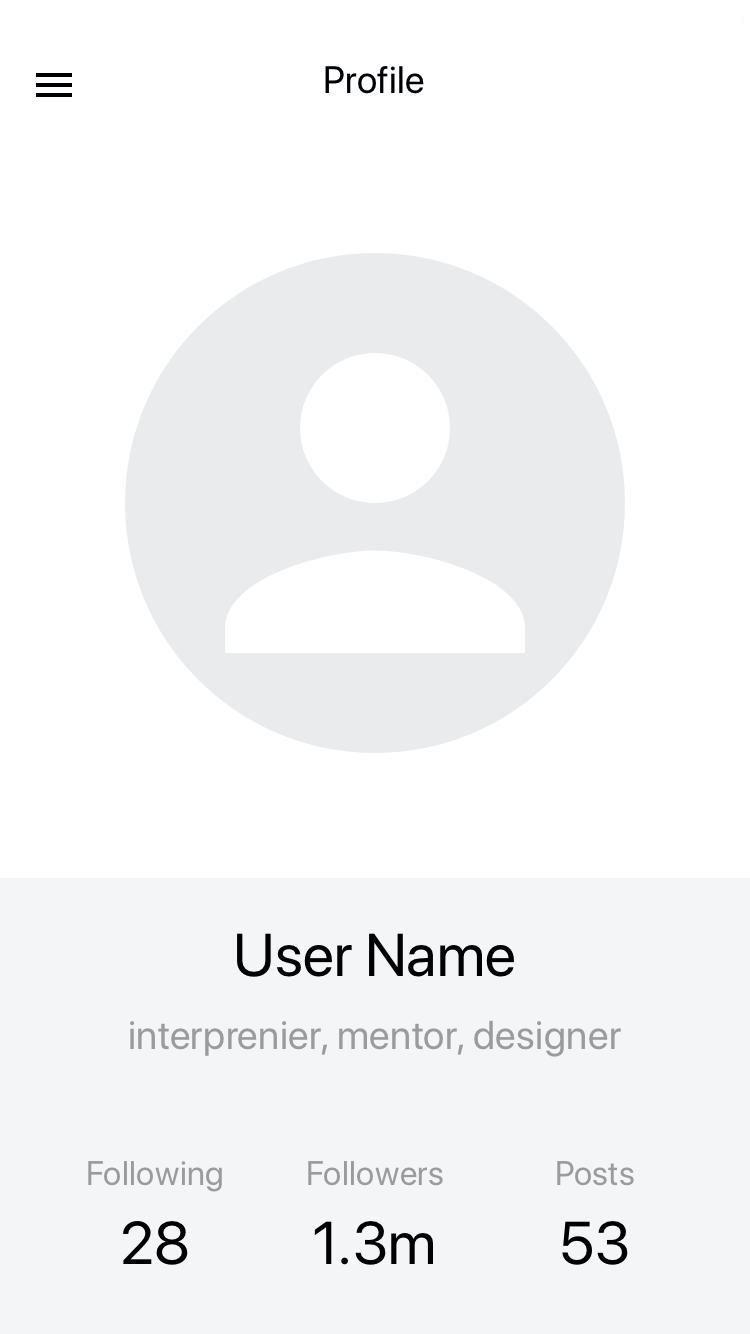Icon: (37, 73, 74, 99)
Image: (126, 254, 627, 756)
Text: (127, 1018, 622, 1058), (236, 932, 518, 979), (315, 1219, 435, 1266), (88, 1160, 224, 1193), (308, 1159, 445, 1186), (561, 1220, 629, 1266), (121, 1220, 189, 1265), (325, 65, 424, 95), (556, 1160, 635, 1187)
